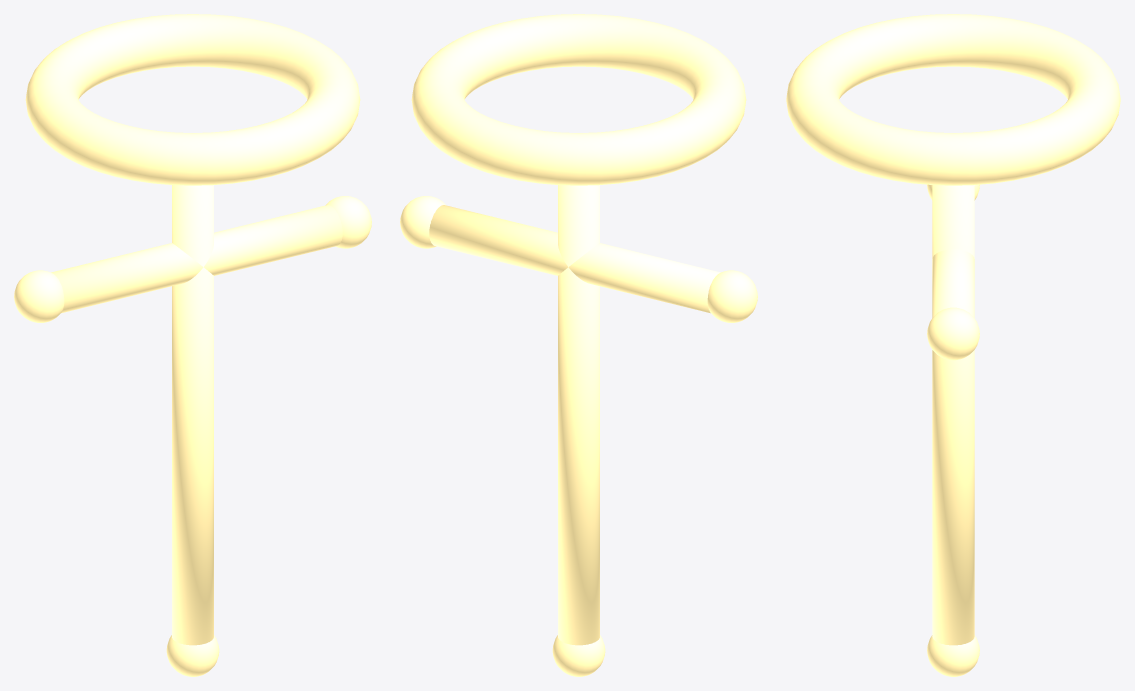
File: ankh.glb
3 renders of one model, left to right at view 1: azimuth 30°, elevation 25°; view 2: azimuth 150°, elevation 25°; view 3: azimuth 270°, elevation 25°, orthographic.
Parts seen in each view (by area): view 1: Ankh; view 2: Ankh; view 3: Ankh.
Part boxes in pixels (x1,y1,x2,y2): Ankh: [14, 14, 371, 676]; Ankh: [400, 14, 757, 676]; Ankh: [786, 14, 1120, 676].
Bounding box in the file's own units: 1.15 × 1.88 × 0.95.
